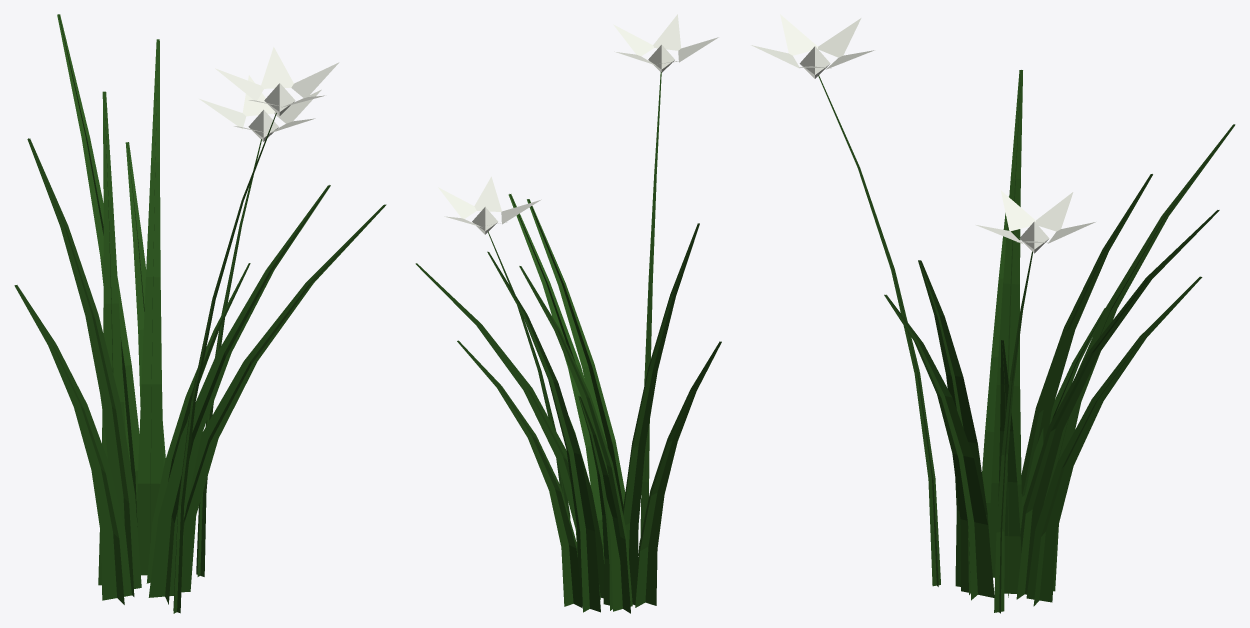
Rendered from BuiCo3.obj.
3 renders of one model, left to right at view 1: azimuth 30°, elevation 25°; view 2: azimuth 150°, elevation 25°; view 3: azimuth 270°, elevation 25°, orthographic. The views are drawn at different scales.
Parts seen in each view (by area): view 1: BuiCo3_Co, BuiCo3_Hoa; view 2: BuiCo3_Co, BuiCo3_Hoa; view 3: BuiCo3_Co, BuiCo3_Hoa.
Boxes of the visible parts, bbox=[...] form: BuiCo3_Co: bbox=[14, 14, 386, 613]; BuiCo3_Hoa: bbox=[199, 47, 339, 141]; BuiCo3_Co: bbox=[415, 72, 721, 613]; BuiCo3_Hoa: bbox=[438, 14, 718, 234]; BuiCo3_Co: bbox=[818, 70, 1235, 613]; BuiCo3_Hoa: bbox=[751, 14, 1095, 253].
Bounding box in the file's own units: 0.4348 × 0.7449 × 0.5777.
